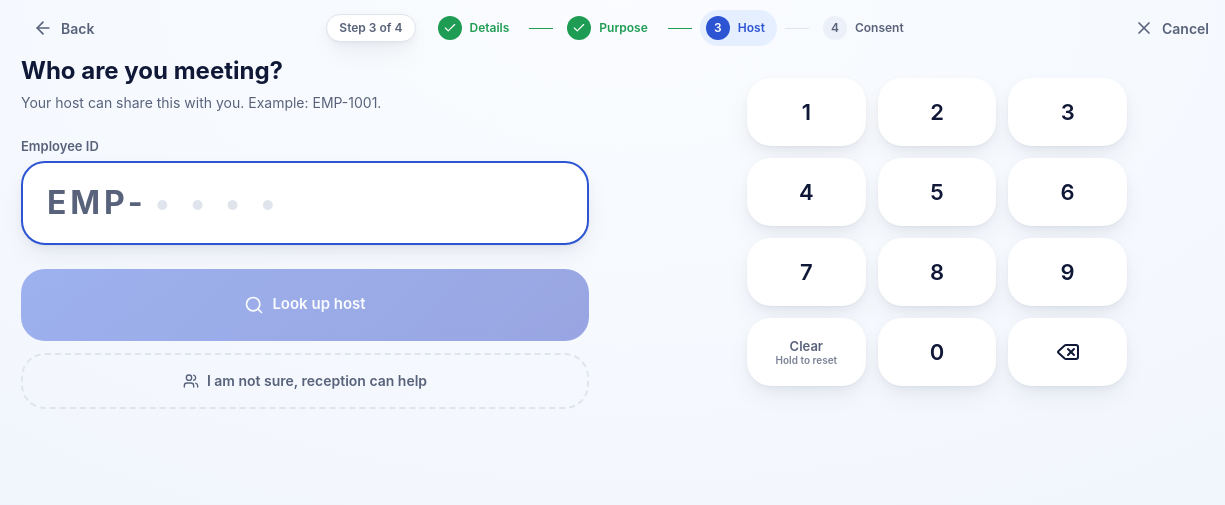
Test: Kiosk Suite › handles Walk-in Host search by employee ID only and displays exact match card
The image size is (1225, 505).
Expected: the heading "Who are you meeting?" is shown, left=21, top=56, right=283, bottom=85
Expected: the text "Your host can share this with you. Example: EMP-1001." is shown, left=21, top=94, right=381, bottom=111
Click the button "1".
click(806, 112)  # box left=747, top=78, right=866, bottom=146
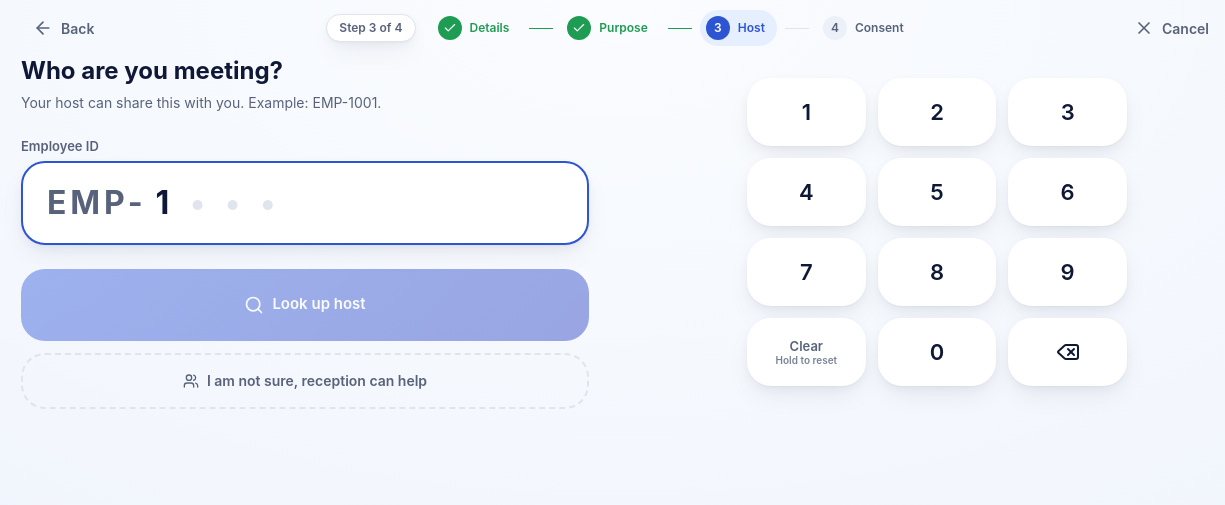
Click the button "0".
click(937, 352)  # box left=878, top=318, right=996, bottom=386
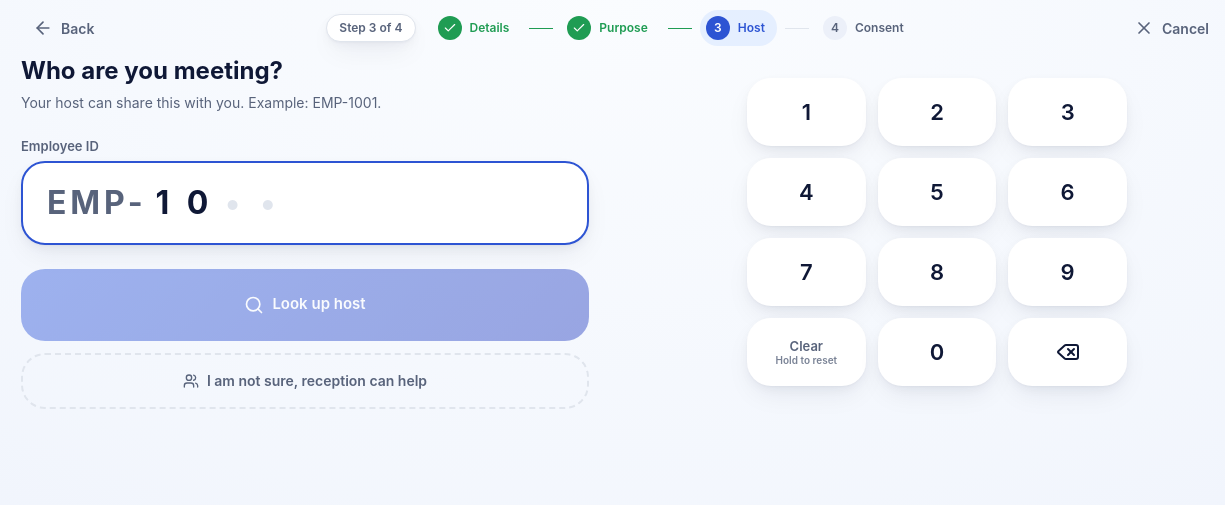
Click the button "0".
click(937, 352)  # box left=878, top=318, right=996, bottom=386
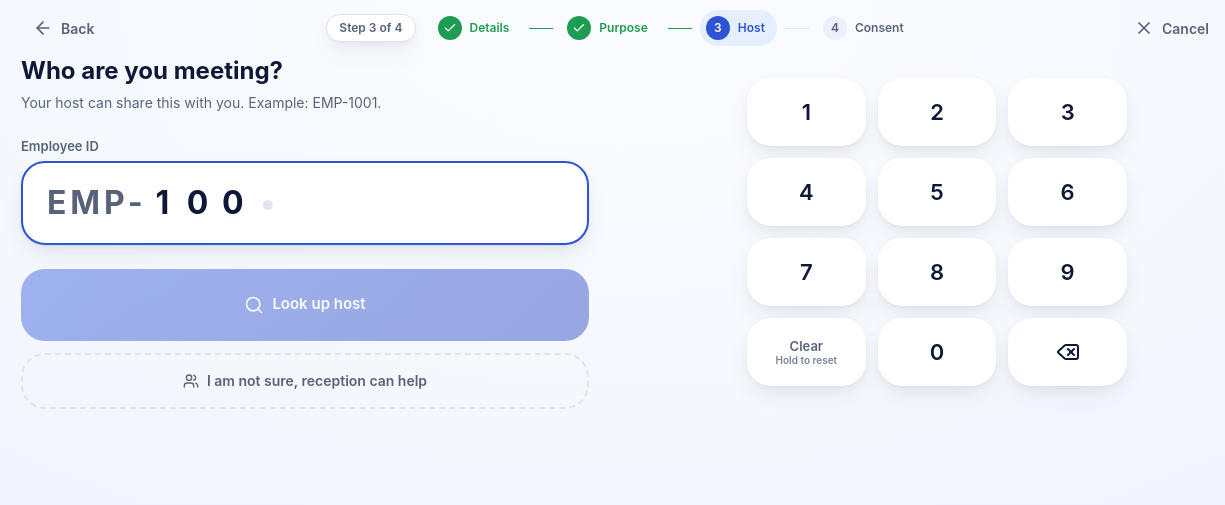
Click the button "1".
click(806, 112)  # box left=747, top=78, right=866, bottom=146
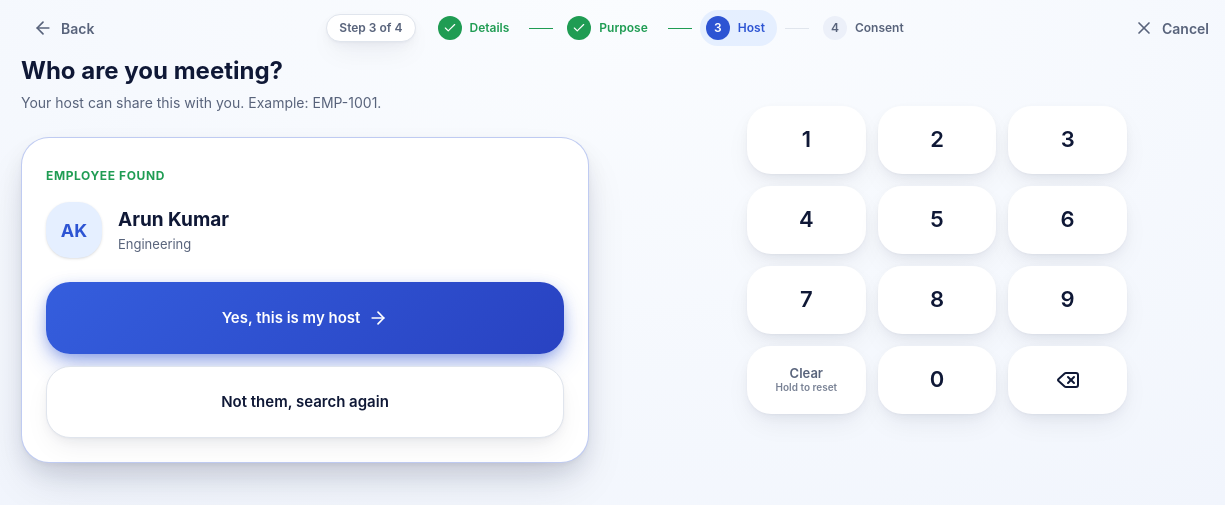
Expected: the text "Employee found" is shown, left=46, top=168, right=165, bottom=183
Expected: the heading "Arun Kumar" is shown, left=118, top=206, right=229, bottom=234
Expected: the text "Engineering" is shown, left=118, top=236, right=191, bottom=252
